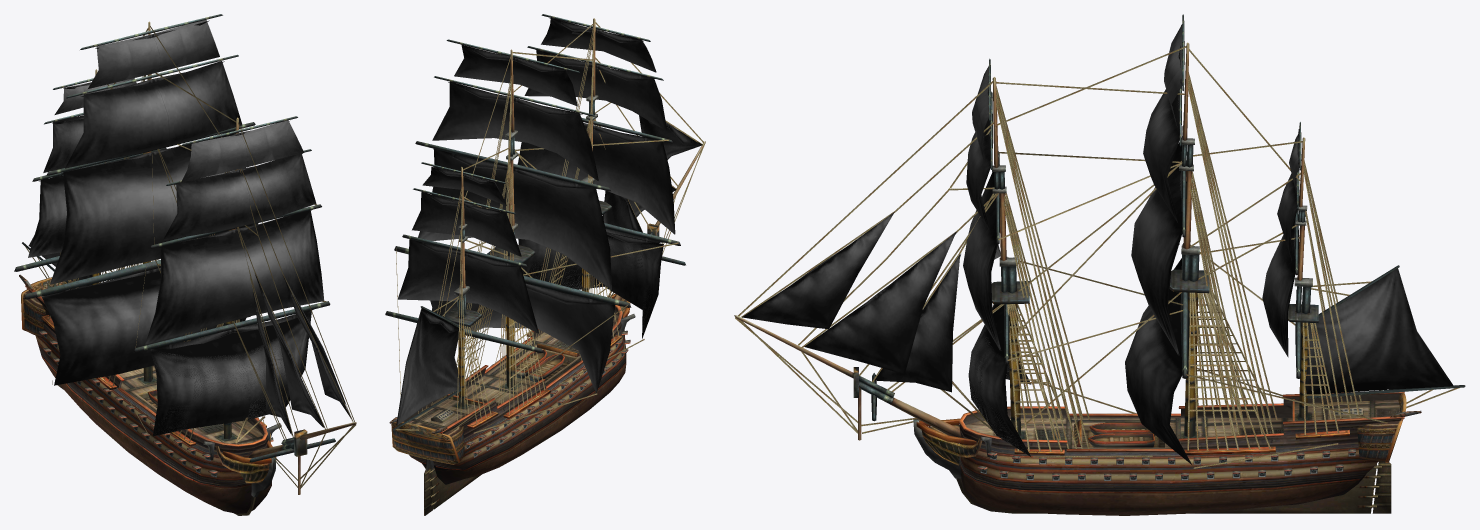
Rendered from T_Ship_10.fbx.
3 views of the same model, side by side, from view 1: azimuth 30°, elevation 25°; view 2: azimuth 150°, elevation 25°; view 3: azimuth 270°, elevation 25° (orthographic). The views are drawn at different scales.
Visible parts, largest first — view 1: T_Ship_p1, T_Ship_10, T_Ship_10_p2, T_Ship_p1_off, T_Ship_10_p3, T_Ship_10_p4; view 2: T_Ship_p1, T_Ship_10, T_Ship_p1_off, T_Ship_10_p2, T_Ship_10_p3, T_Ship_10_p4, T_Ship_10_p5; view 3: T_Ship_10, T_Ship_p1, T_Ship_10_p2, T_Ship_10_p3, T_Ship_10_p4, T_Ship_10_p5.
Boxes of the visible parts, box(x1,y1,x2,y2) form: T_Ship_p1: box(28, 19, 349, 436); T_Ship_10: box(14, 14, 356, 494); T_Ship_10_p2: box(35, 323, 273, 487); T_Ship_p1_off: box(39, 20, 350, 435); T_Ship_10_p3: box(42, 358, 271, 513); T_Ship_10_p4: box(234, 457, 275, 515); T_Ship_p1: box(396, 18, 702, 425); T_Ship_10: box(385, 14, 705, 464); T_Ship_p1_off: box(412, 18, 699, 332); T_Ship_10_p2: box(409, 327, 630, 470); T_Ship_10_p3: box(415, 363, 626, 484); T_Ship_10_p4: box(430, 460, 481, 509); T_Ship_10_p5: box(424, 459, 439, 515); T_Ship_10: box(734, 14, 1465, 468); T_Ship_p1: box(742, 24, 1453, 464); T_Ship_10_p2: box(921, 417, 1378, 493); T_Ship_10_p3: box(960, 467, 1365, 515); T_Ship_10_p4: box(913, 419, 1376, 513); T_Ship_10_p5: box(1357, 461, 1391, 513).
Size of the model in its own units: 5.76 by 9.35 by 13.17.
